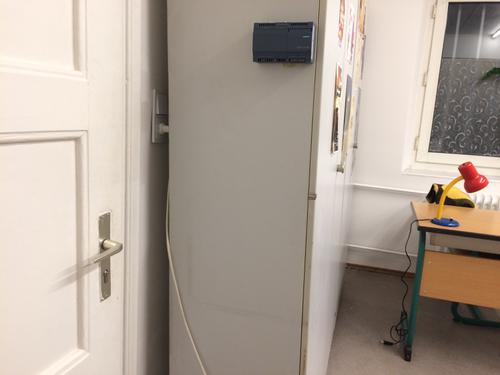iot2000: (252, 21, 317, 65)
